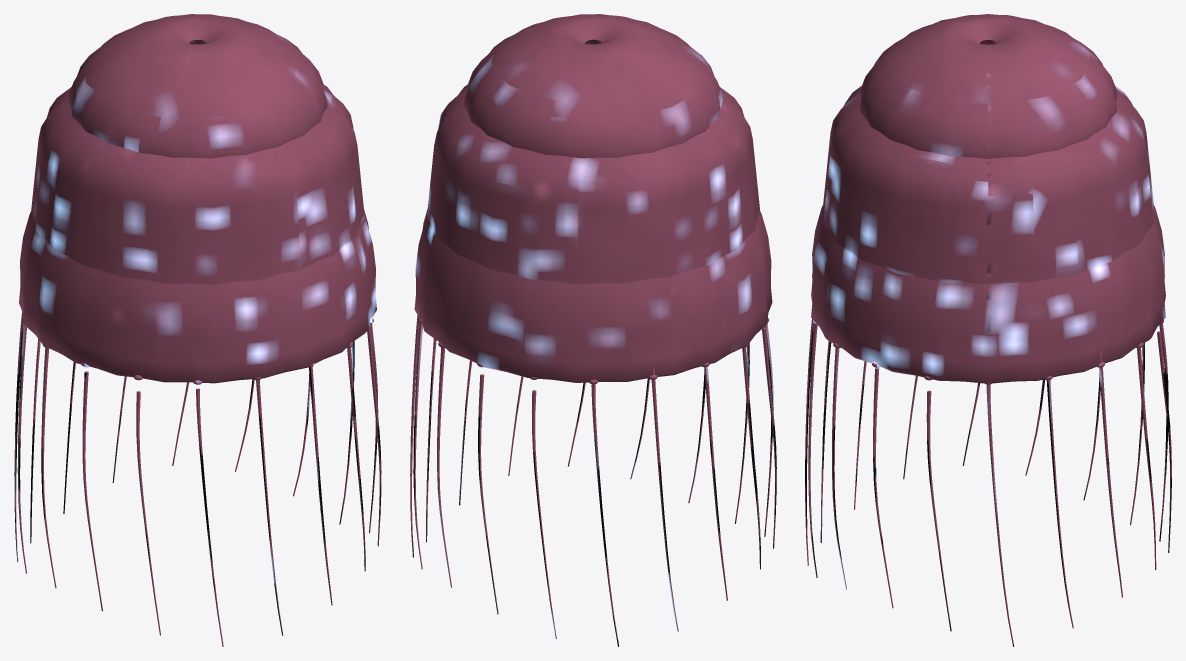
The model's file is crossota_millsae.glb.
The picture shows the model from 3 angles, left to right: view 1: azimuth 30°, elevation 25°; view 2: azimuth 150°, elevation 25°; view 3: azimuth 270°, elevation 25°; orthographic projection.
Parts seen in each view (by area): view 1: crossota_millsae; view 2: crossota_millsae; view 3: crossota_millsae.
Boxes of the visible parts, box(x1,y1,x2,y2) form: crossota_millsae: box(14, 14, 381, 646); crossota_millsae: box(410, 14, 776, 646); crossota_millsae: box(805, 14, 1171, 646).
Bounding box in the file's own units: 0.4345 × 0.7001 × 0.4321.
Materials: 2 (2 with a texture image).
